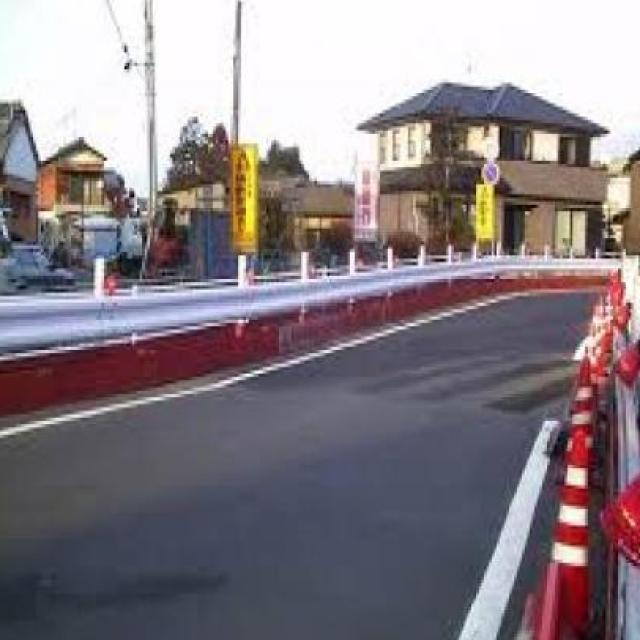Guard rail: (0, 241, 621, 363)
